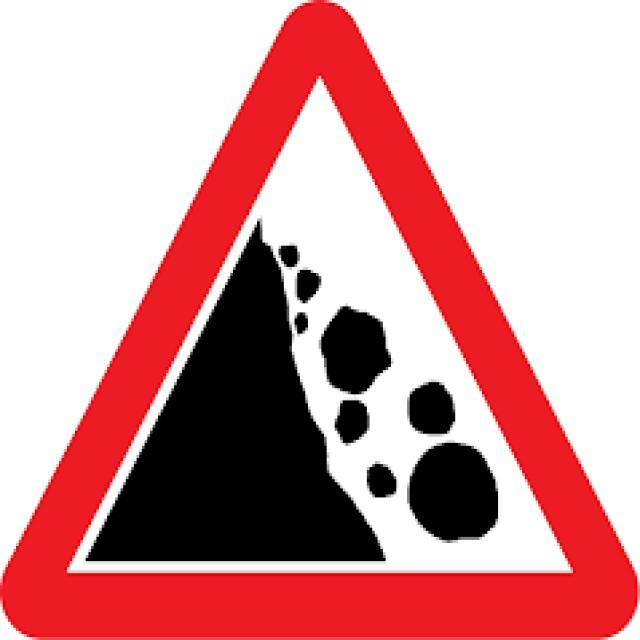falling rocks: (13, 12, 628, 628)
